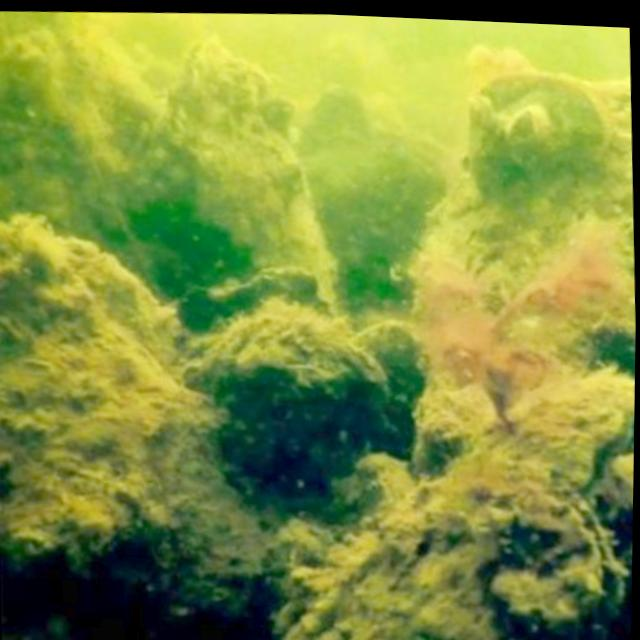Oyster-Closed: (277, 453, 630, 640), (116, 37, 339, 312), (506, 374, 635, 500)
Oyster-Indeterminate: (0, 235, 257, 630), (193, 300, 389, 490), (471, 67, 610, 186)
